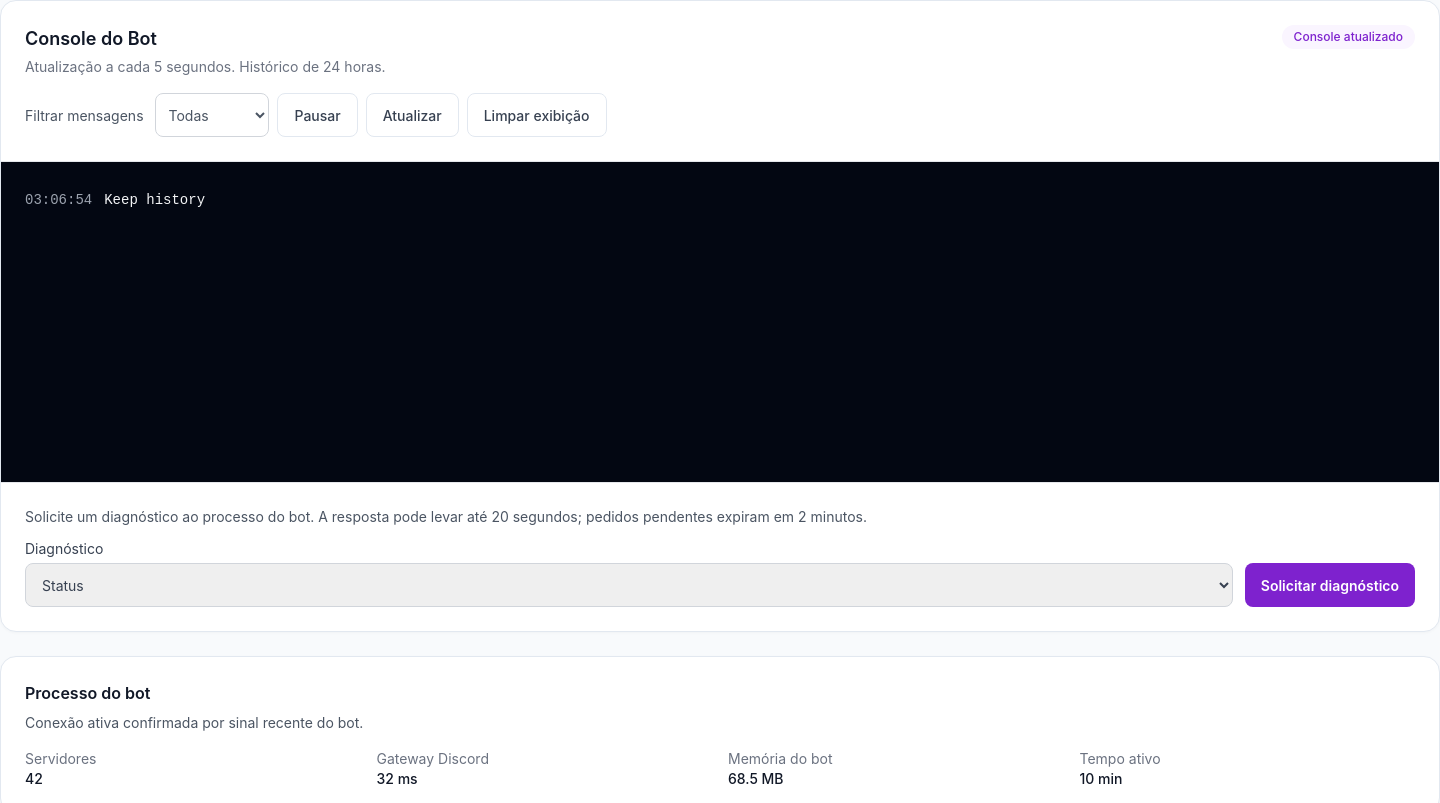
Test case: retains events on network failure and clearing affects only the display
The image size is (1440, 803).
Expected: the text "Keep history" is shown, left=104, top=190, right=205, bottom=210
Click the button "Atualizar" at {"x": 412, "y": 115}, box left=366, top=93, right=459, bottom=137
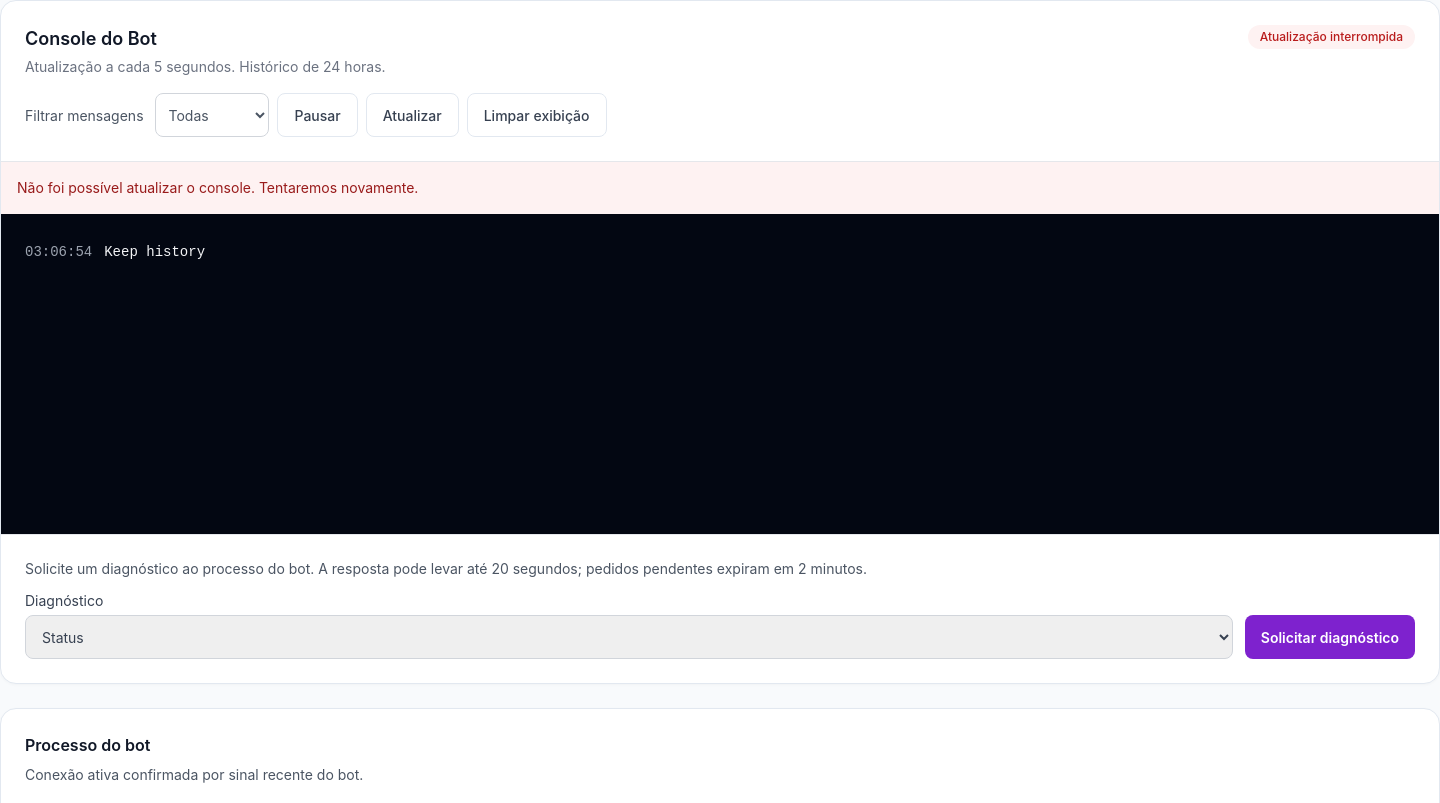
Expected: the text "Keep history" is shown, left=104, top=242, right=205, bottom=262
Result: the message "Não foi possível atualizar o console. Tentaremos novamente." is shown at left=1, top=162, right=1439, bottom=214
Click the button "Limpar exibição" at {"x": 537, "y": 115}, box left=467, top=93, right=606, bottom=137
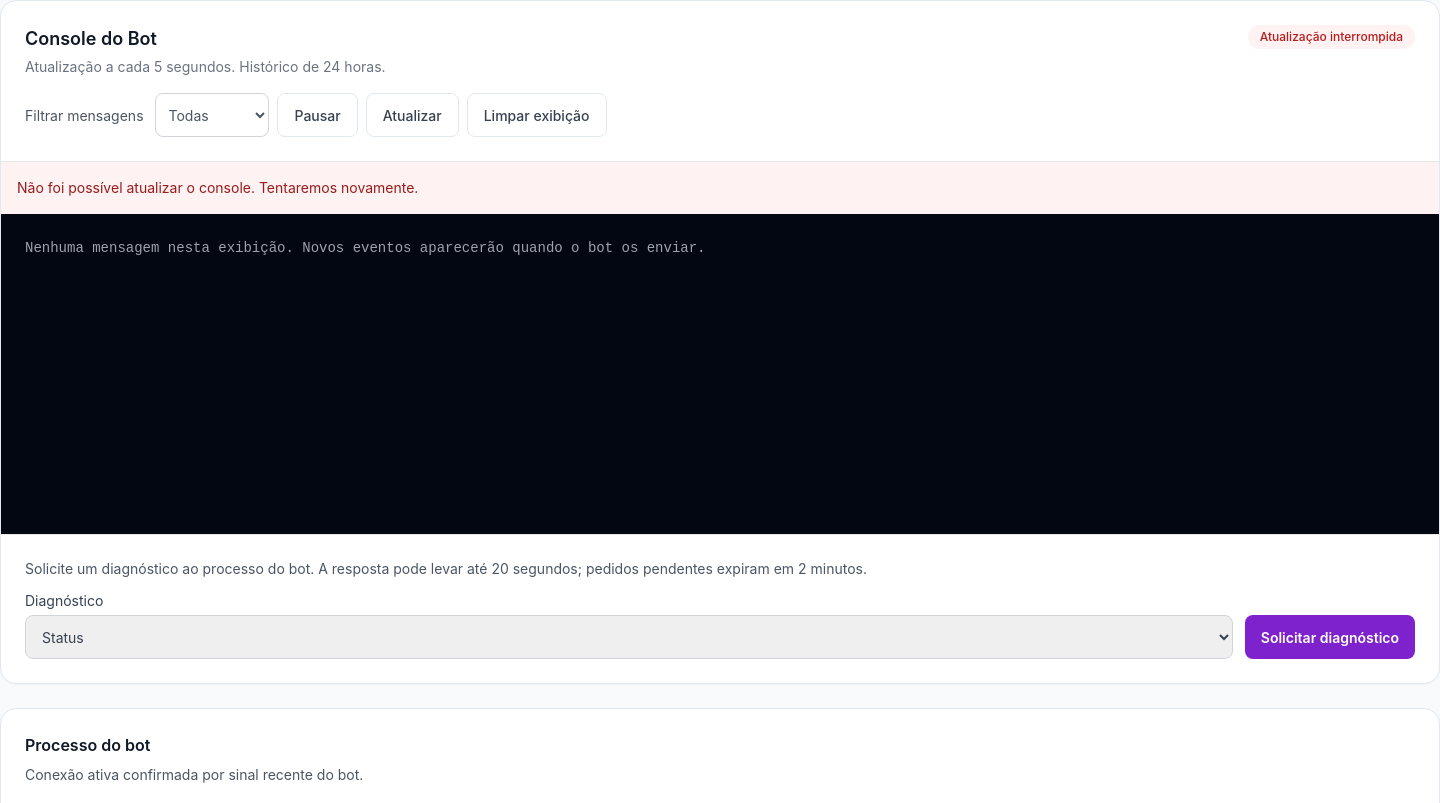
Result: the text "Keep history" is gone
